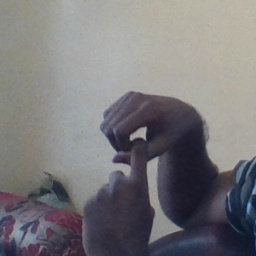Q: (80, 89, 198, 241)
